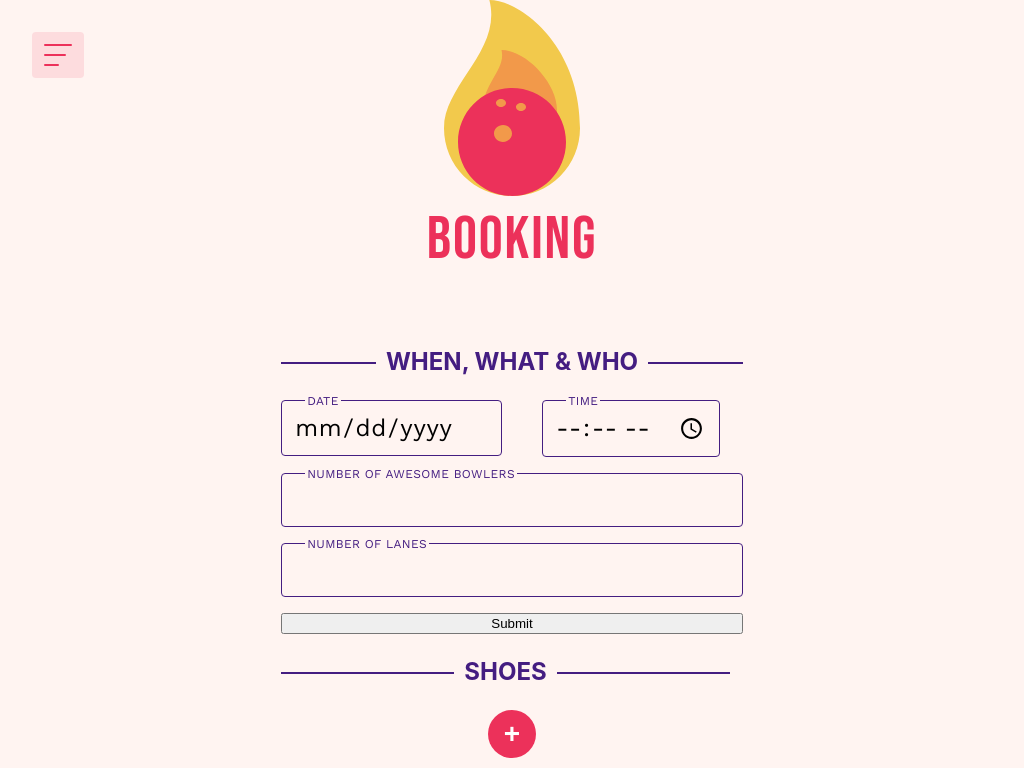
Test: App component › User should be able to delete a shoe size by a - button
Click the button "+" at (512, 734), box [488,710,536,758]
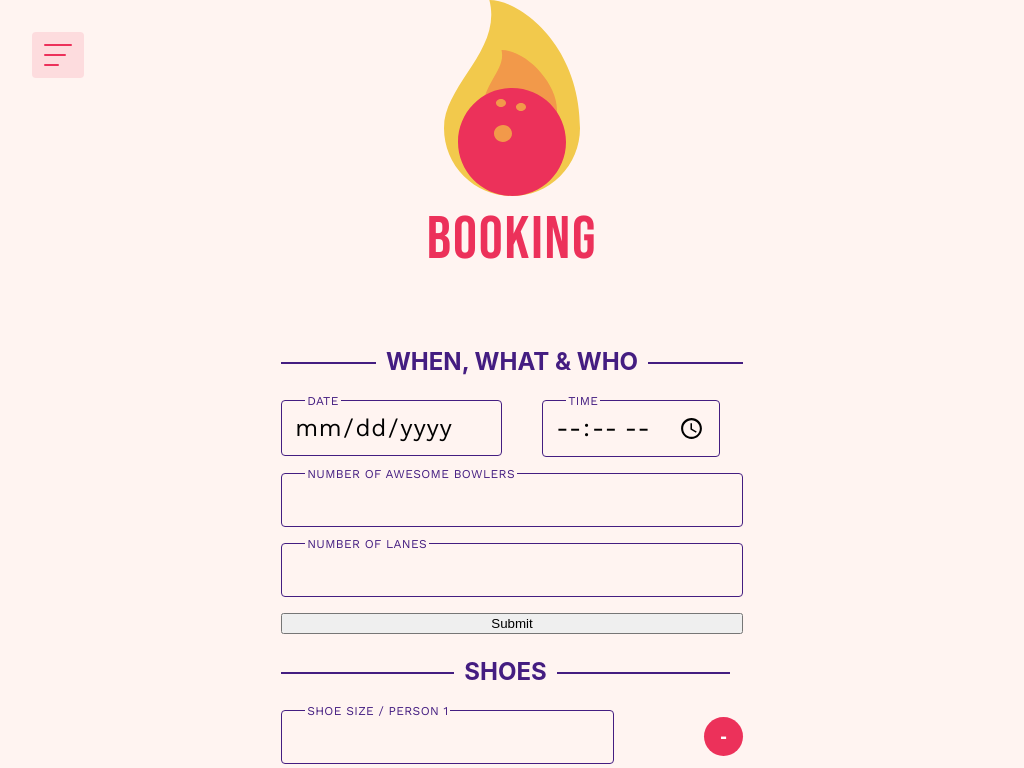
Type "38" into the field labelled "Shoe size / person 1" at (448, 737), box [281,710,614,764]
(page scrolled)
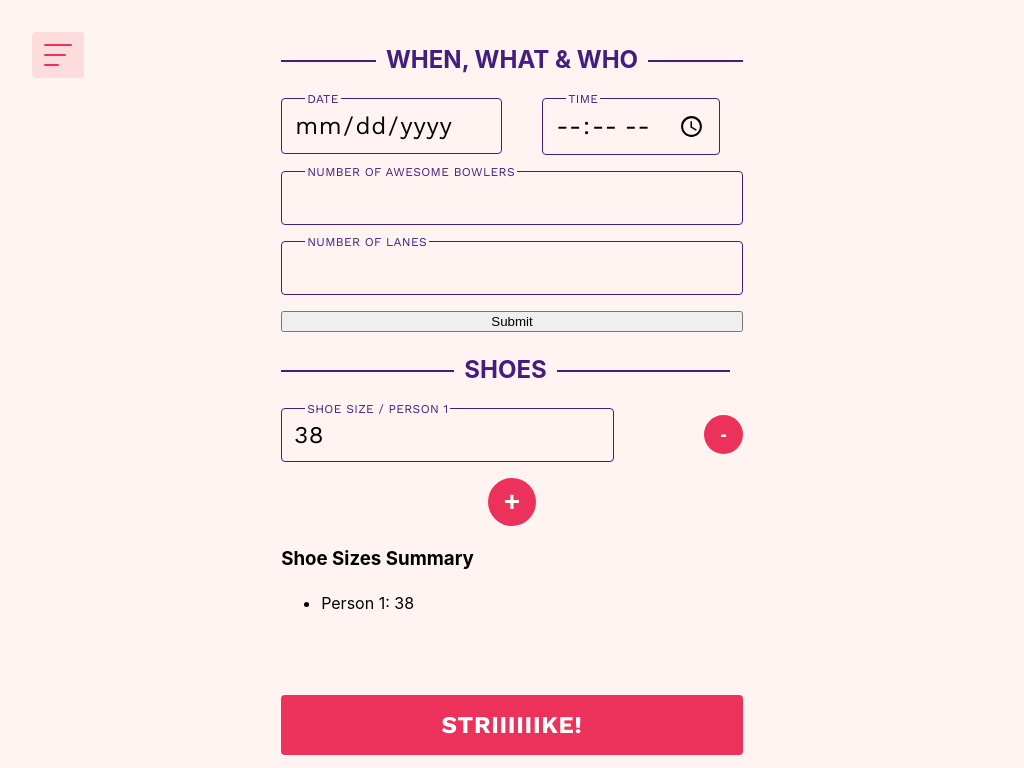
Click the button "+" at (512, 502), box [488,478,536,526]
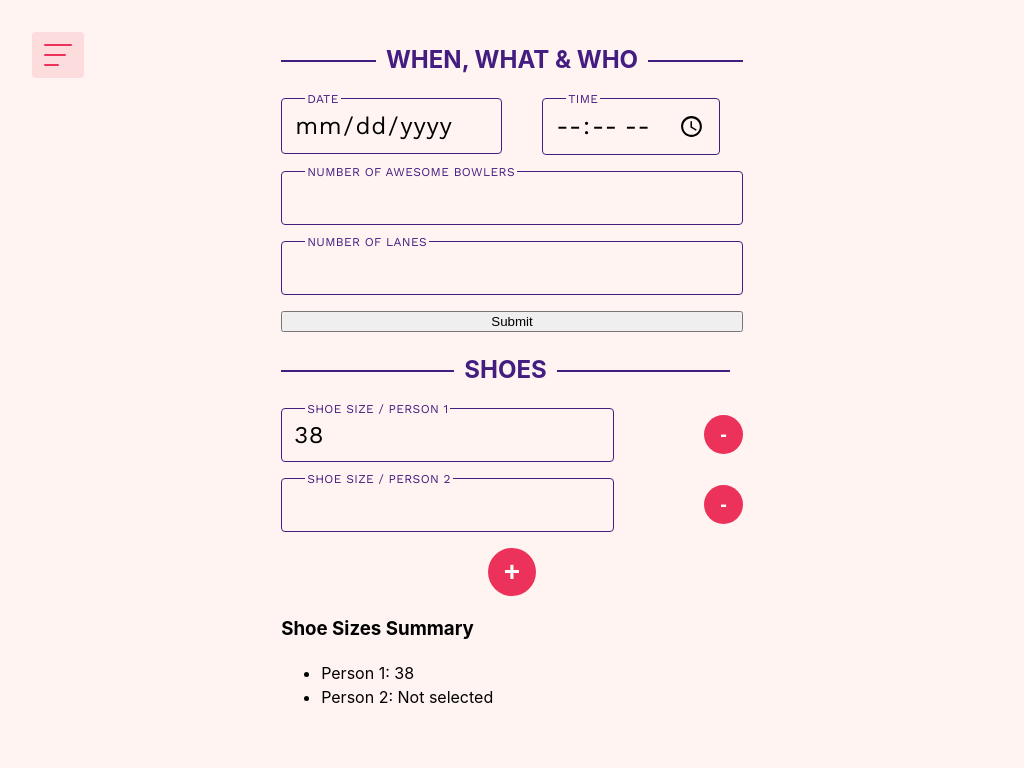
Type "38" into the field labelled "Shoe size / person 2" at (448, 505), box [281,478,614,532]
Click the button "+" at (512, 572), box [488,548,536,596]
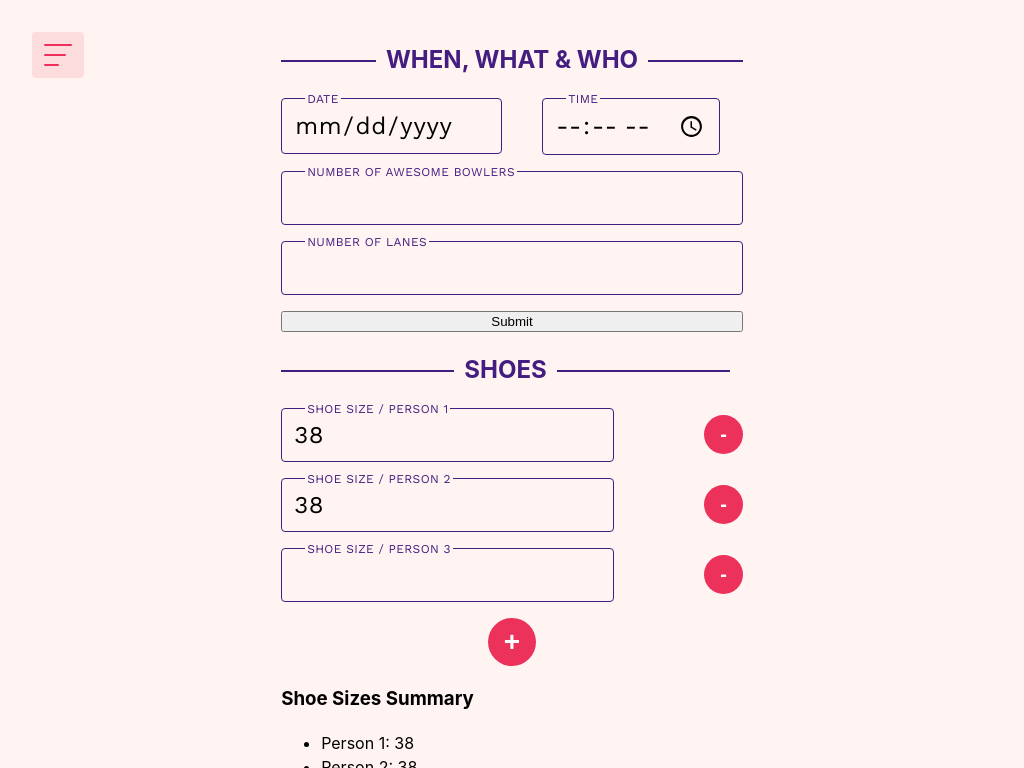
Type "38" into the field labelled "Shoe size / person 3" at (448, 575), box [281,548,614,602]
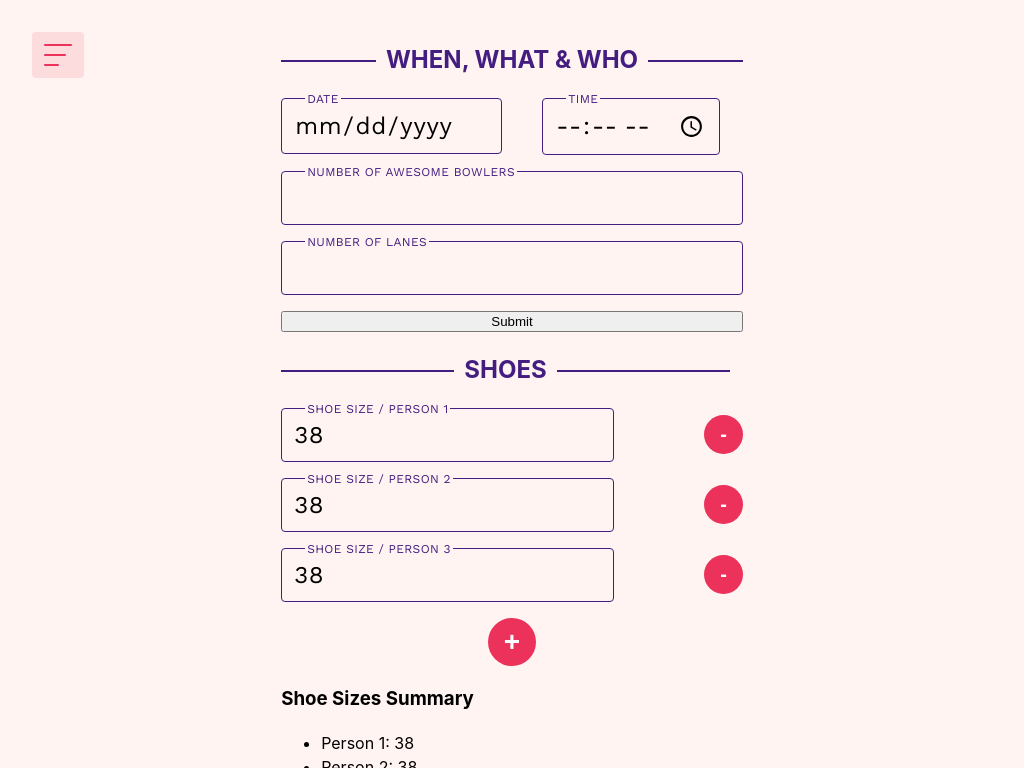
Expected: the number of buttons "-" is 3
Click the button "-" below "Shoe size / person 2" at (724, 505), box [704,485,743,524]
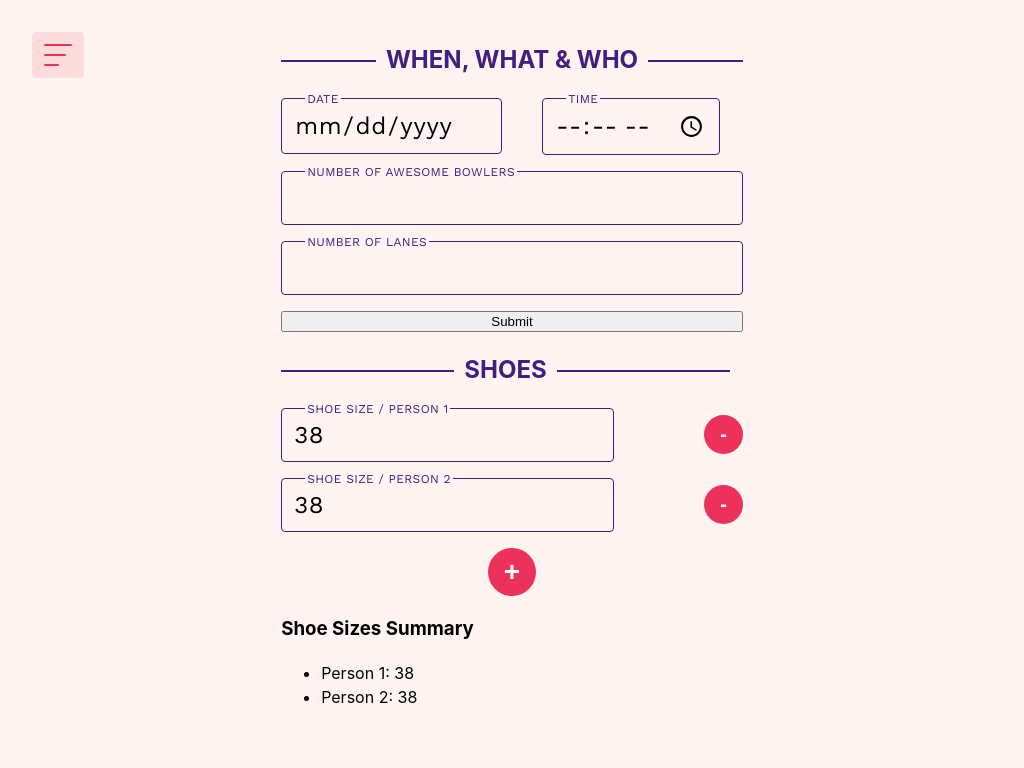
Expected: the number of buttons "-" is 2, [704,415,743,454]; [704,485,743,524]
